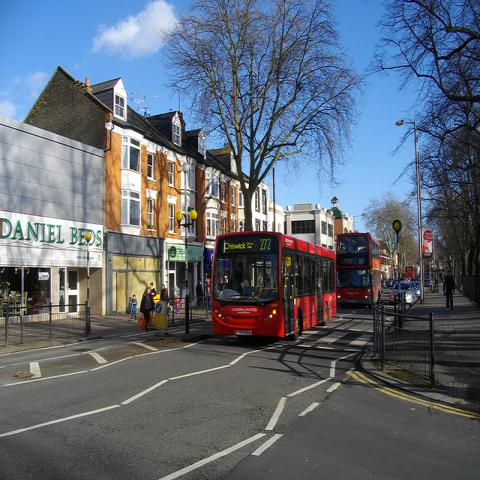bus: (210, 232, 337, 340), (335, 233, 382, 307)
car: (390, 282, 412, 304), (408, 281, 418, 301), (415, 281, 420, 297)
